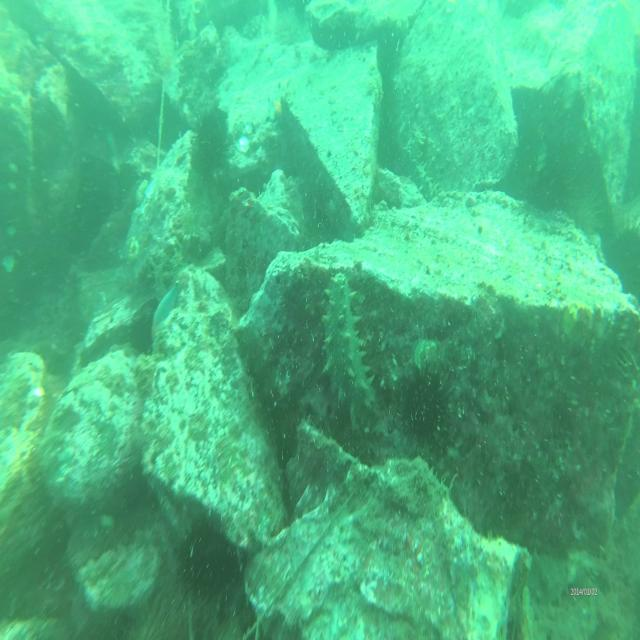echinus: (178, 521, 240, 604), (397, 368, 452, 452), (185, 106, 229, 182)
holothurian: (318, 271, 384, 435), (403, 130, 436, 205), (175, 0, 201, 41)
starfish: (150, 274, 180, 341), (263, 80, 287, 125), (232, 134, 254, 156)
